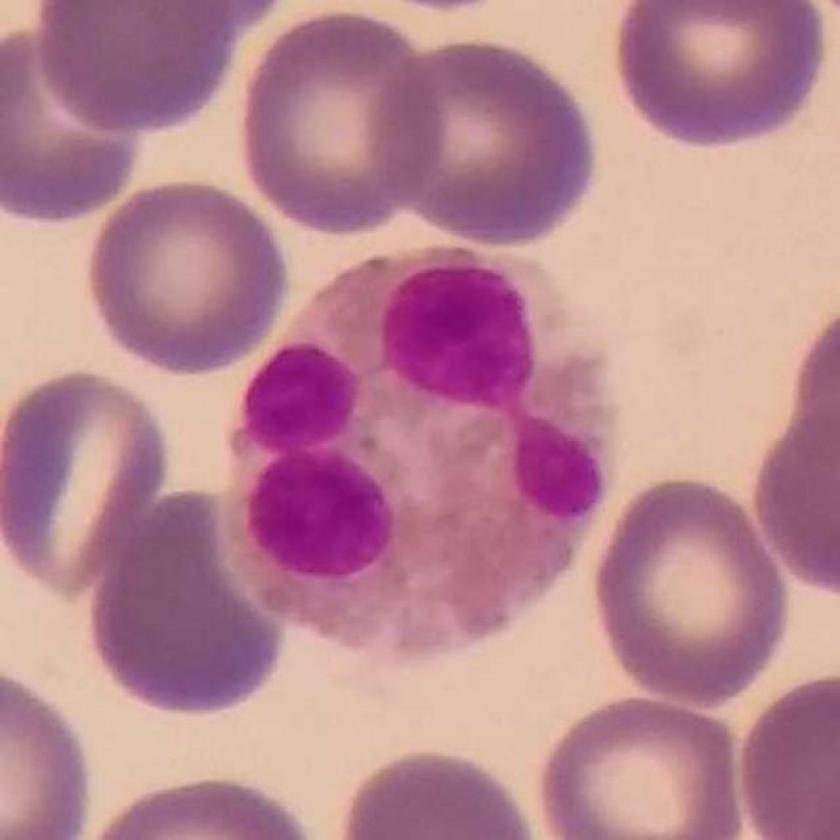eosinophil: (212, 234, 640, 659)
